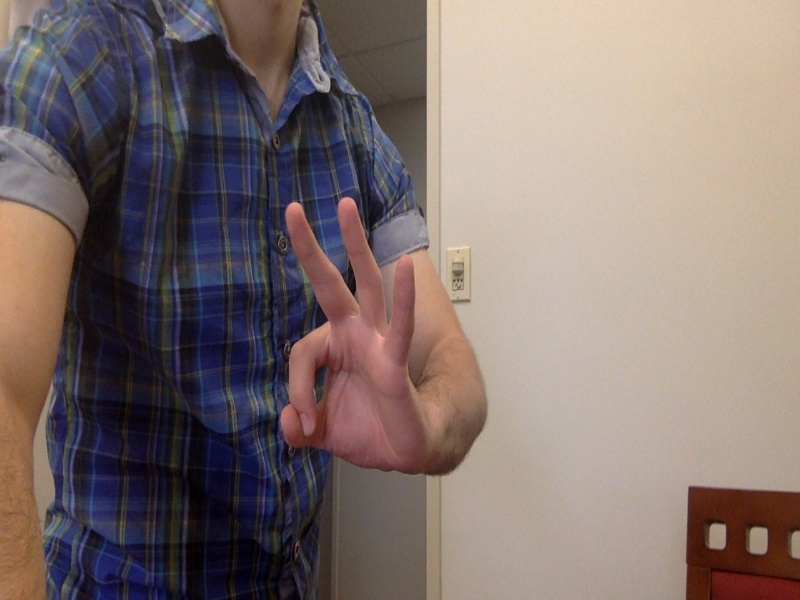3-hand: (276, 200, 433, 482)
